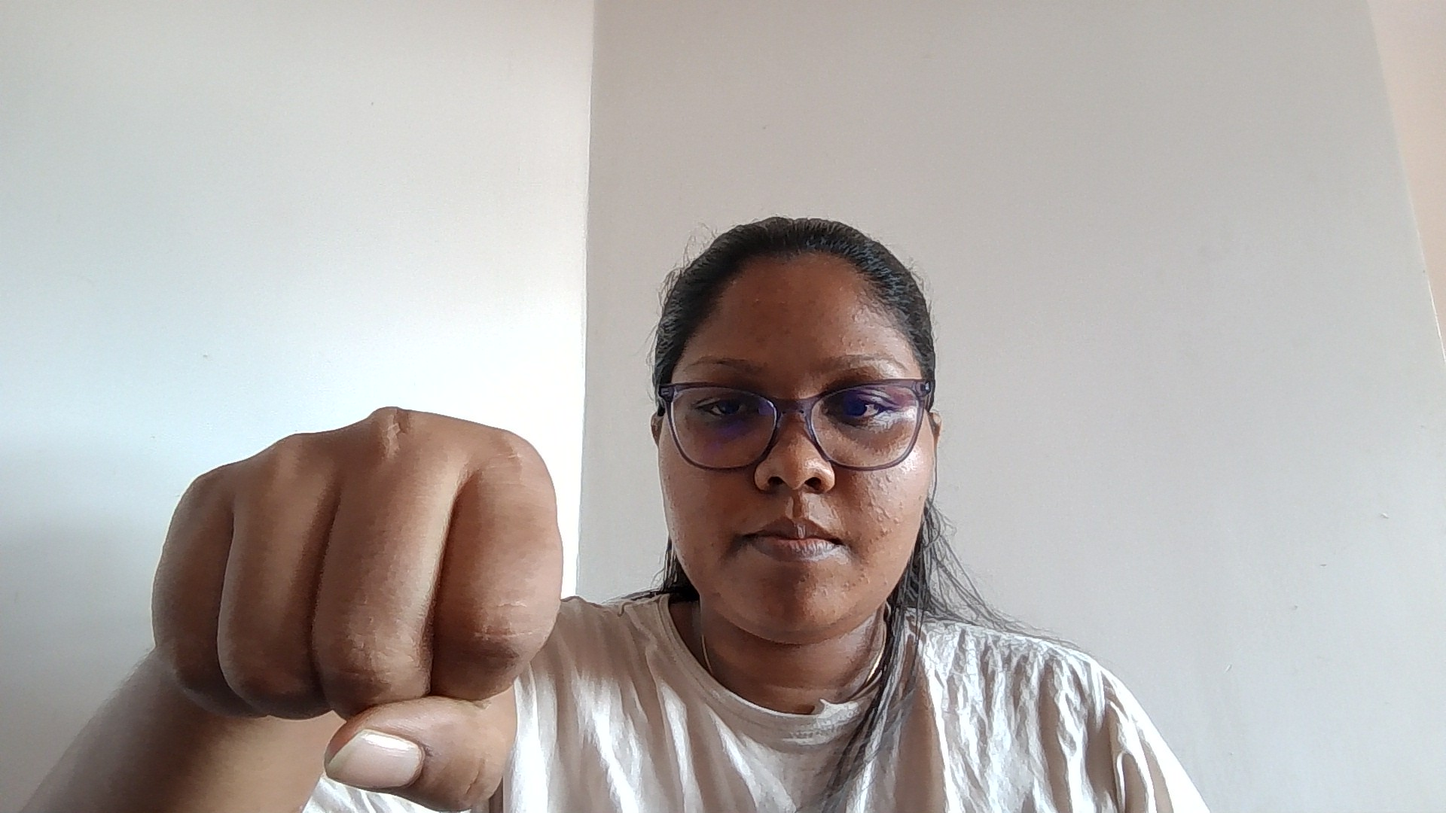Yes: (153, 297, 626, 813)
